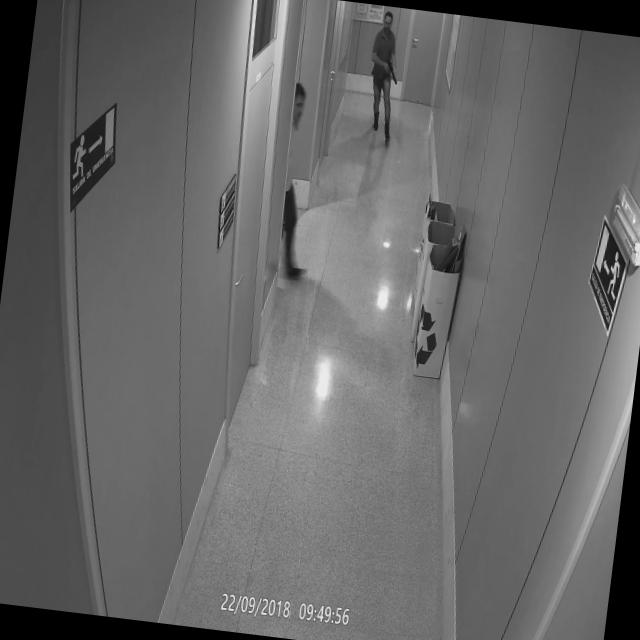gun: (380, 52, 402, 94)
person: (266, 75, 334, 307)
person with a gun: (358, 7, 412, 152)
